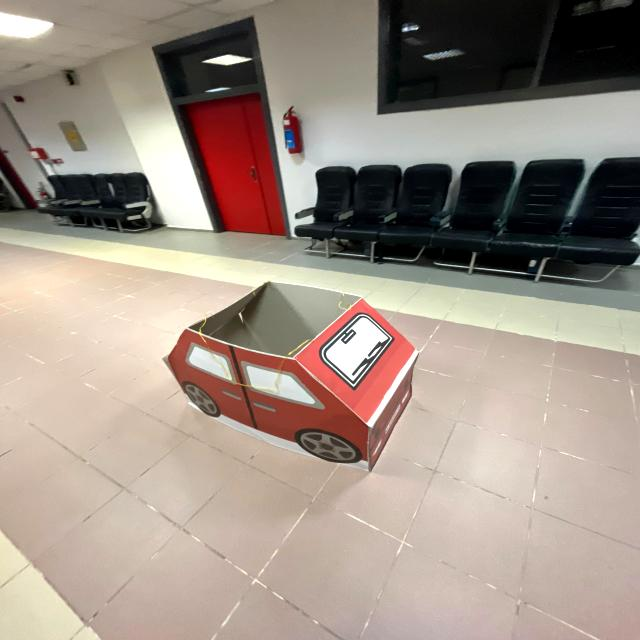red_car: (154, 277, 464, 483)
